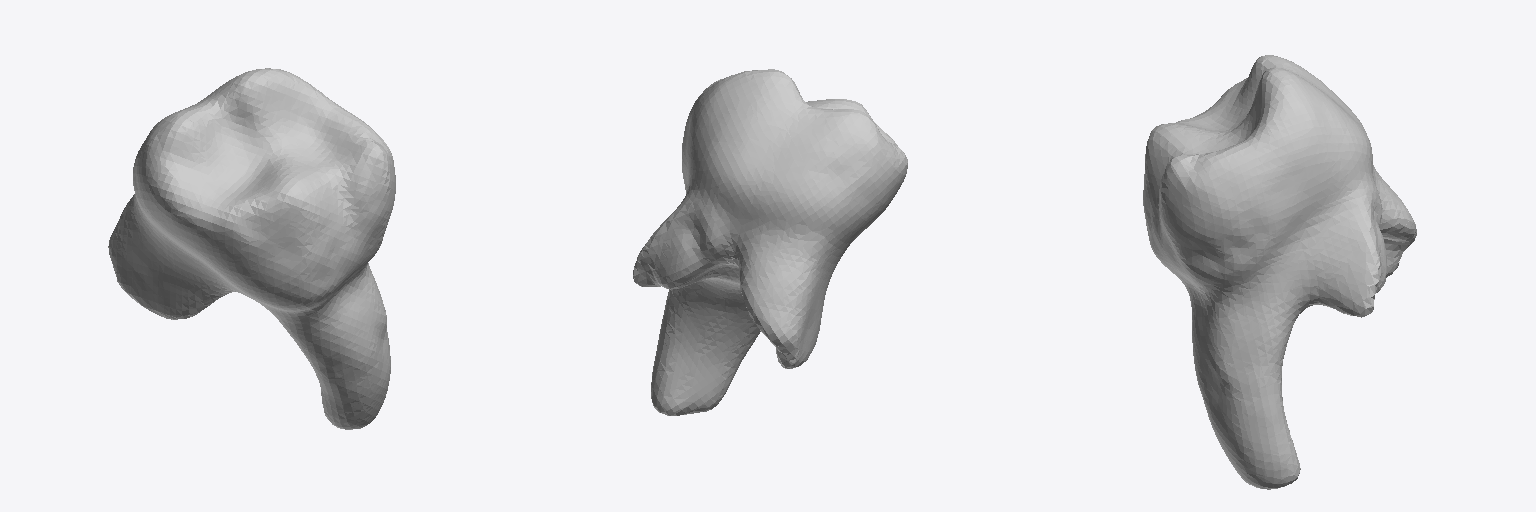
File: tooth.obj
3 renders of one model, left to right at view 1: azimuth 30°, elevation 25°; view 2: azimuth 150°, elevation 25°; view 3: azimuth 270°, elevation 25°, orthographic.
Visible parts, largest first — view 1: default; view 2: default; view 3: default.
Part boxes in pixels (x1,y1,x2,y2): default: (108, 68, 395, 429); default: (633, 69, 907, 415); default: (1143, 55, 1416, 489).
Size of the model in its own units: 1.66 by 2.47 by 1.67.